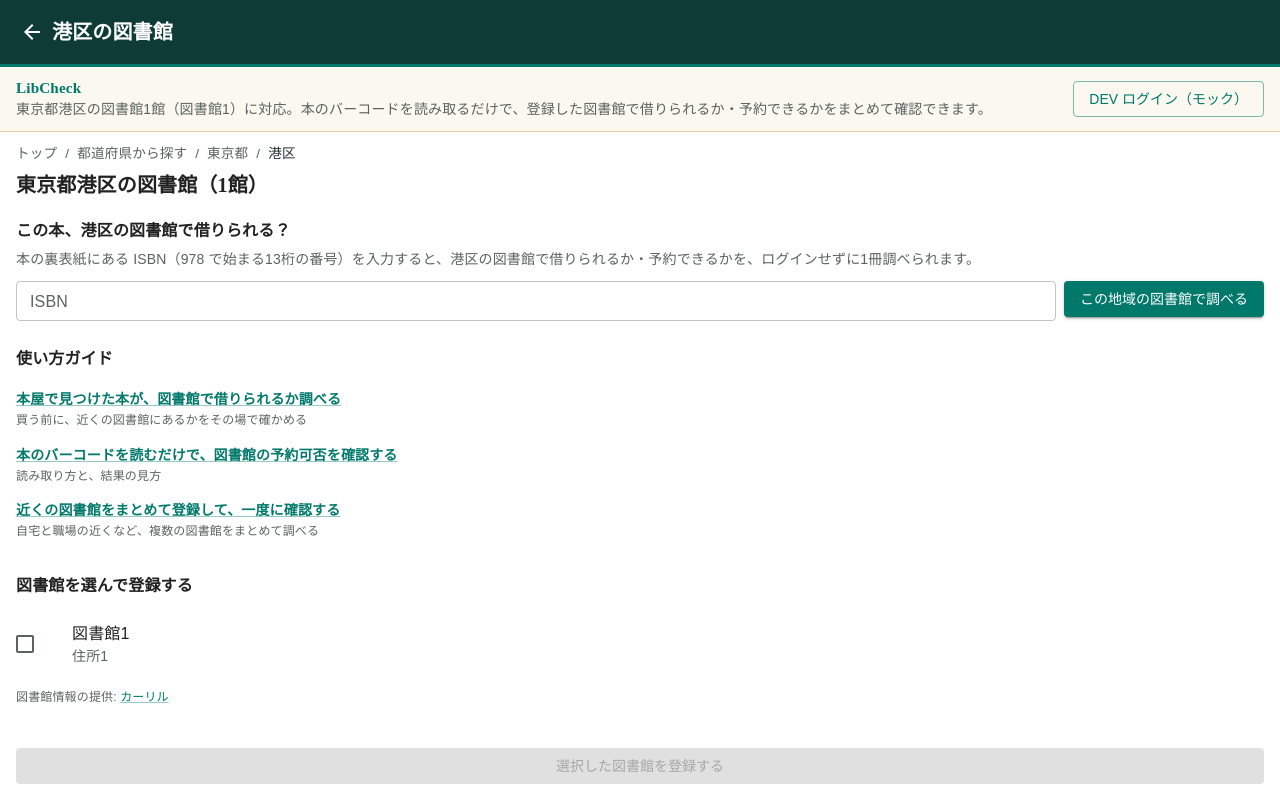
Test: 未ログインでの登録操作（#158, #167） › ダイアログでログインすると、選択した図書館が自動で登録され管理画面へ遷移する
Click the text "図書館1" at (101, 634), box [72,625,130,642]
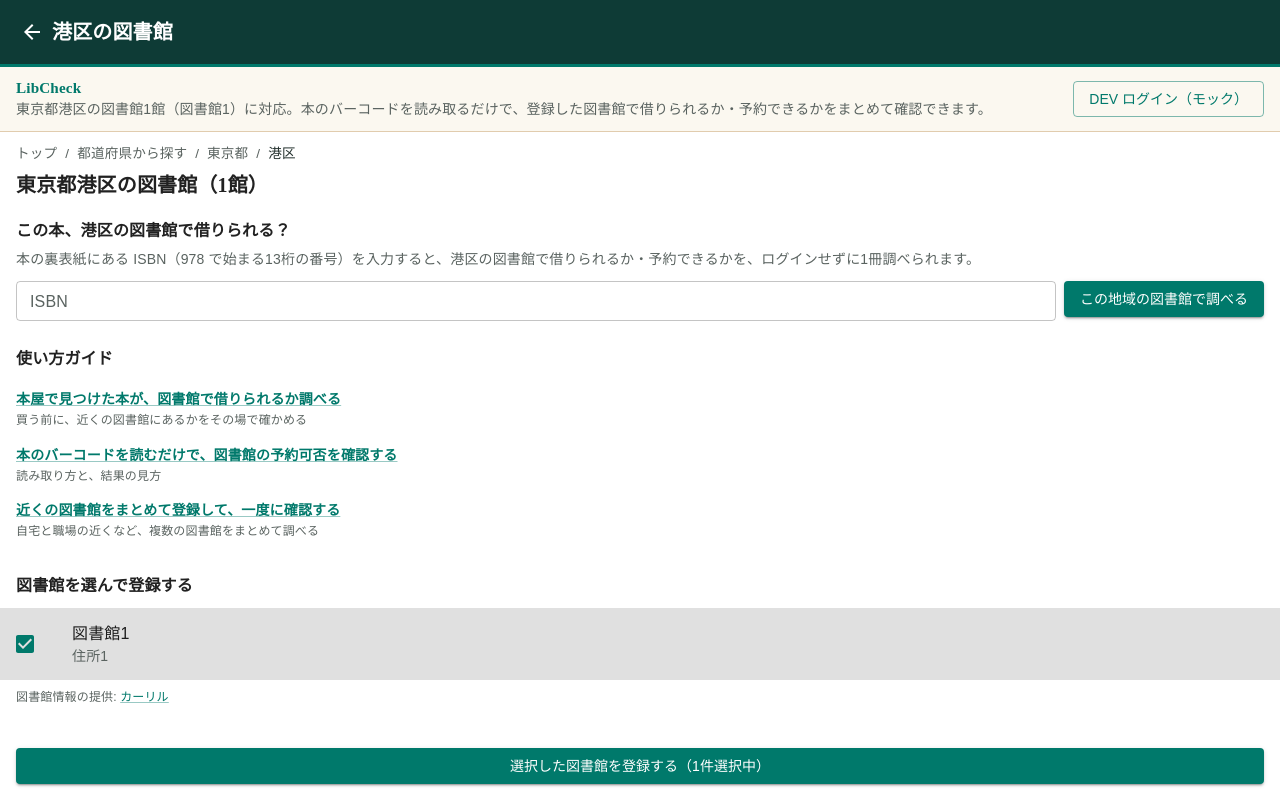
Click the button "選択した図書館を登録する（1件選択中）" at (640, 766), box [16,748,1264,784]
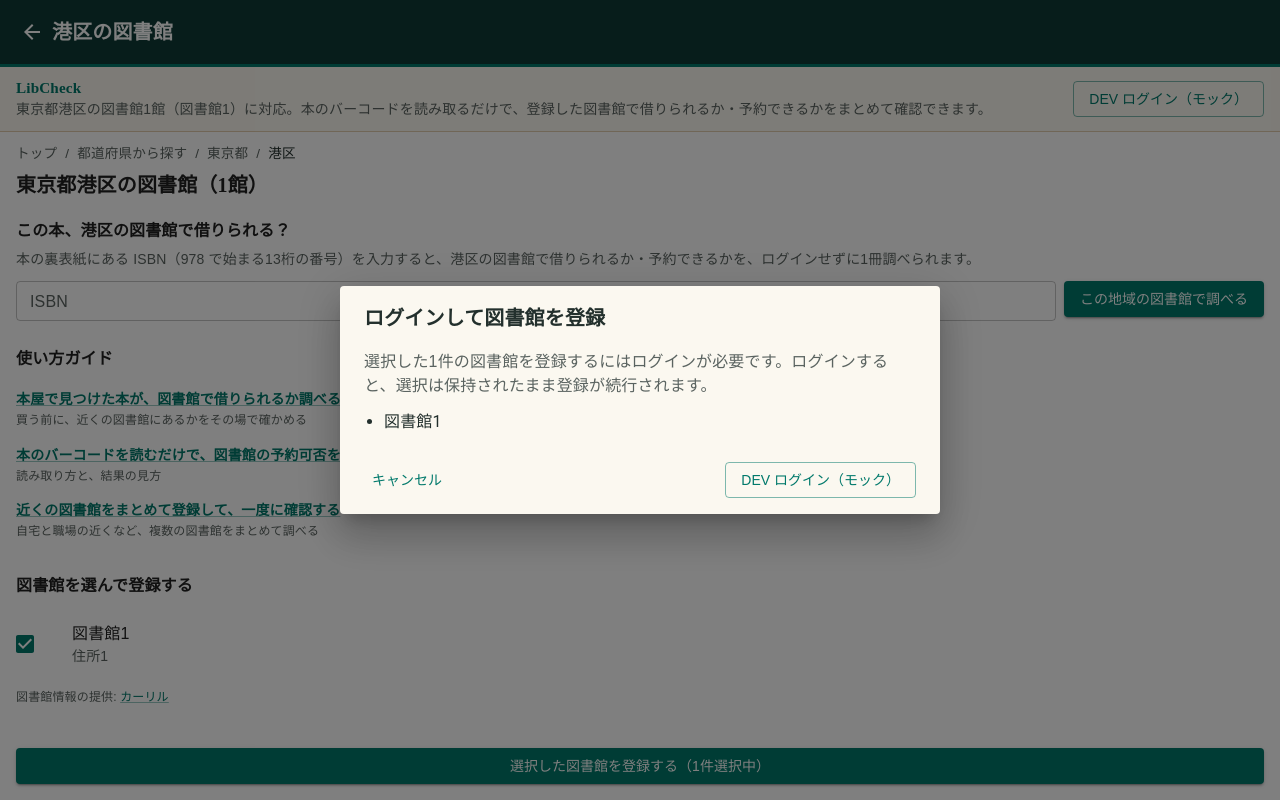
Now the dialog is shown, box [340,286,940,514]
Click the button "Dev ログイン（モック）" at (821, 480), box [725,462,916,498]
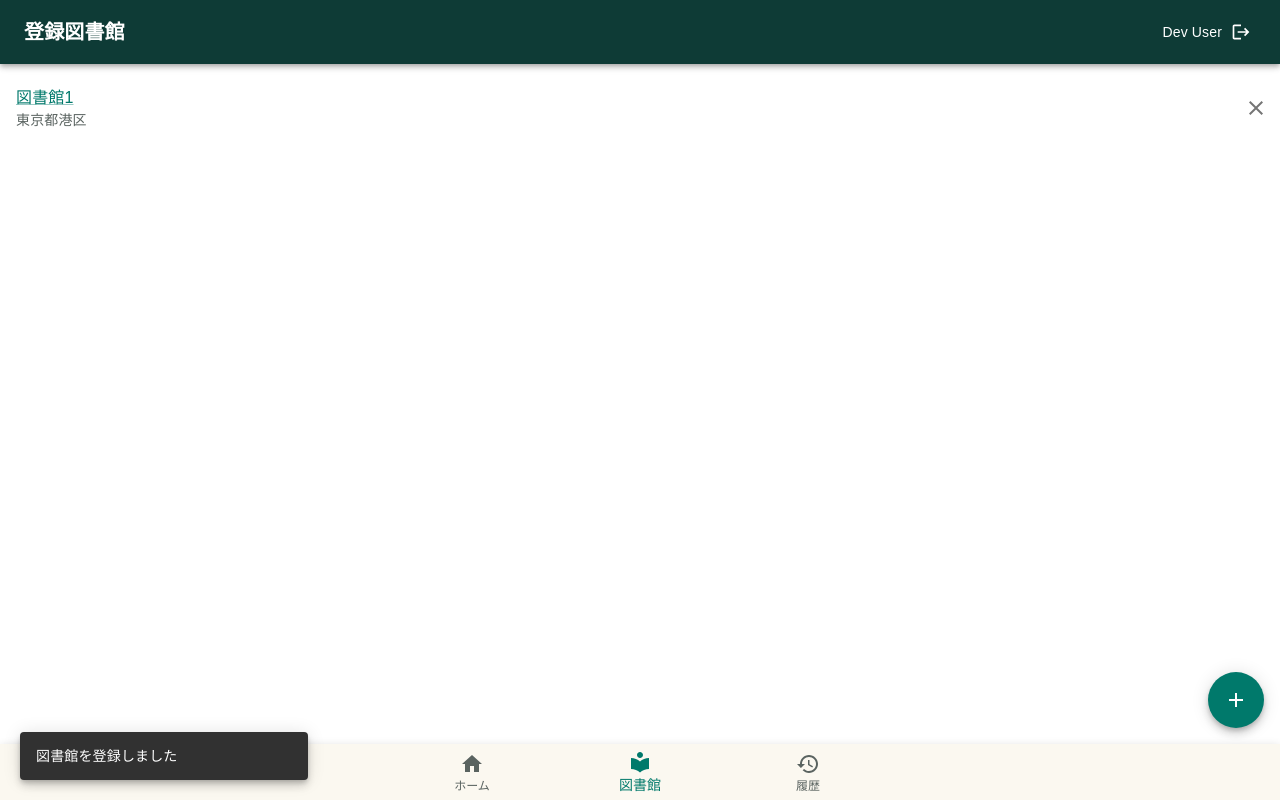
Expected: the link "図書館1" is shown, [16,89,74,106]
Now the text "登録図書館" is shown, box [24,21,125,43]
